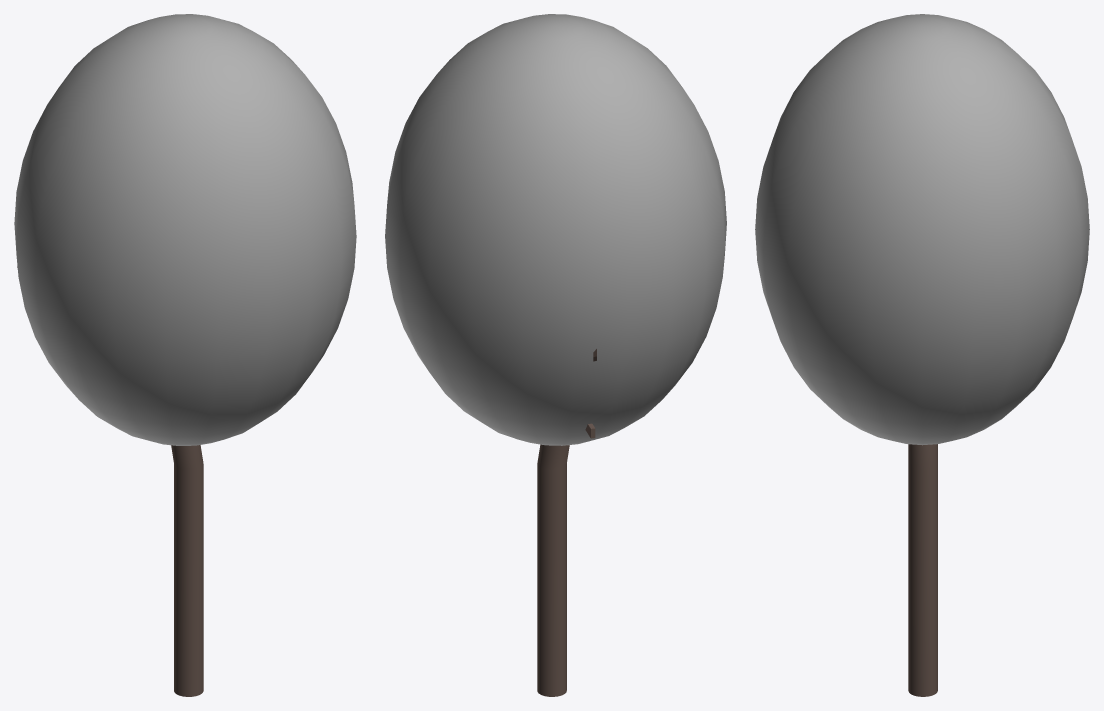
The model's file is arbre mort.fbx.
The picture shows the model from 3 angles, left to right: view 1: azimuth 30°, elevation 25°; view 2: azimuth 150°, elevation 25°; view 3: azimuth 270°, elevation 25°; orthographic projection.
Parts seen in each view (by area): view 1: pasted__polySurface1, pasted__polySurface2; view 2: pasted__polySurface1, pasted__polySurface2; view 3: pasted__polySurface1, pasted__polySurface2.
Boxes of the visible parts, <box> form: pasted__polySurface1: <box>14,14,356,445</box>; pasted__polySurface2: <box>17,266,203,696</box>; pasted__polySurface1: <box>385,14,726,445</box>; pasted__polySurface2: <box>537,349,596,696</box>; pasted__polySurface1: <box>755,14,1089,445</box>; pasted__polySurface2: <box>908,444,937,696</box>.
Size of the model in its own units: 4.77 by 10.09 by 4.62.
